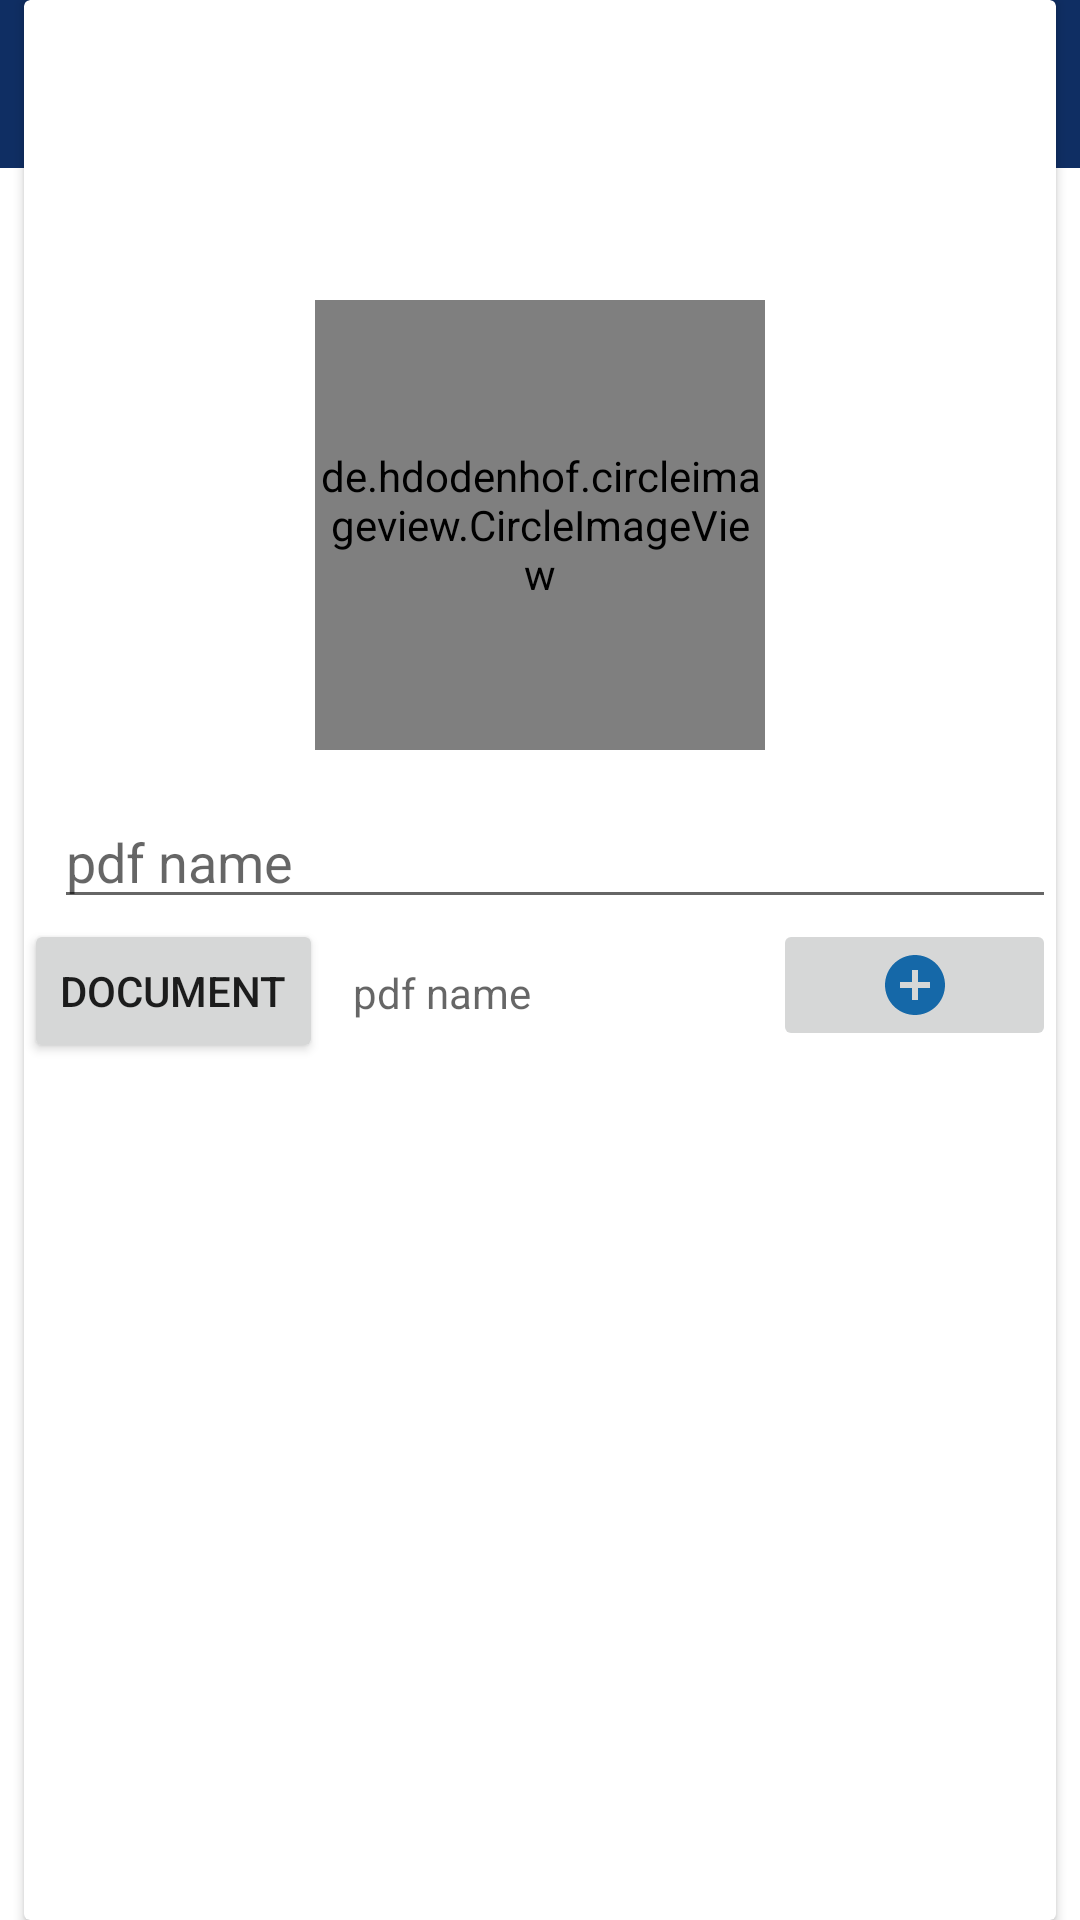

Where icons sit on this 1080×1920 app screen, as Rect(x1, y1, x2, y2):
add circle: Rect(785, 937, 1044, 1033)
